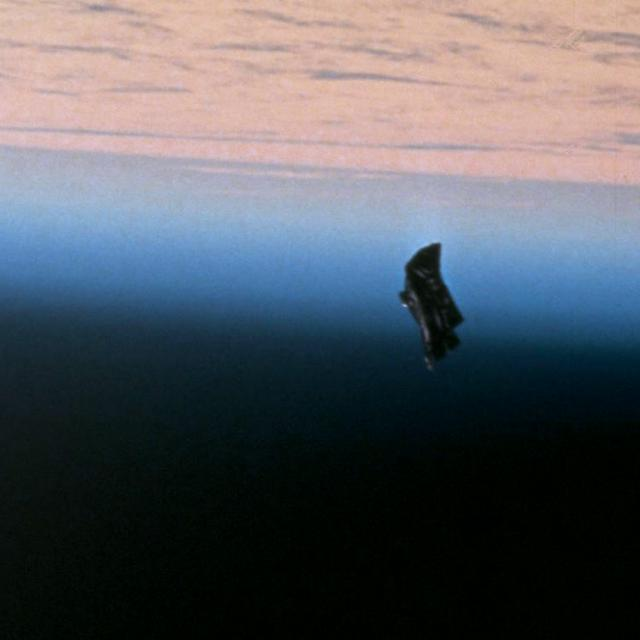satellite: (400, 242, 464, 369)
